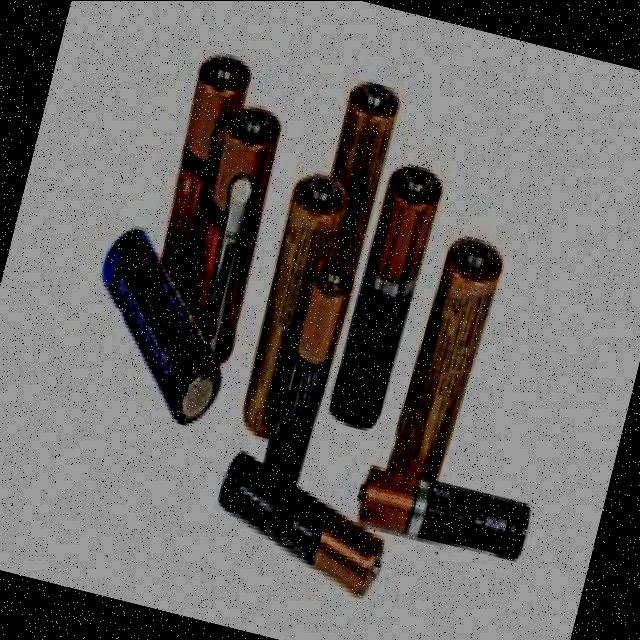AA: (213, 447, 390, 599), (97, 220, 226, 426), (353, 461, 534, 566)
